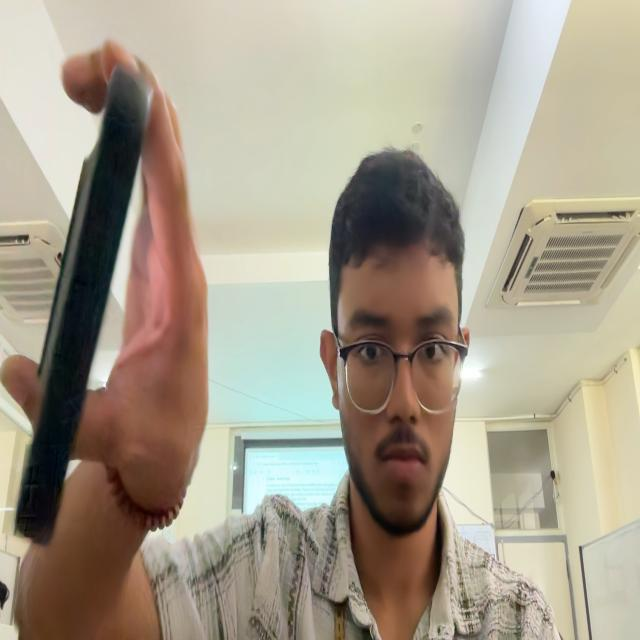Useful: (15, 68, 152, 543)
